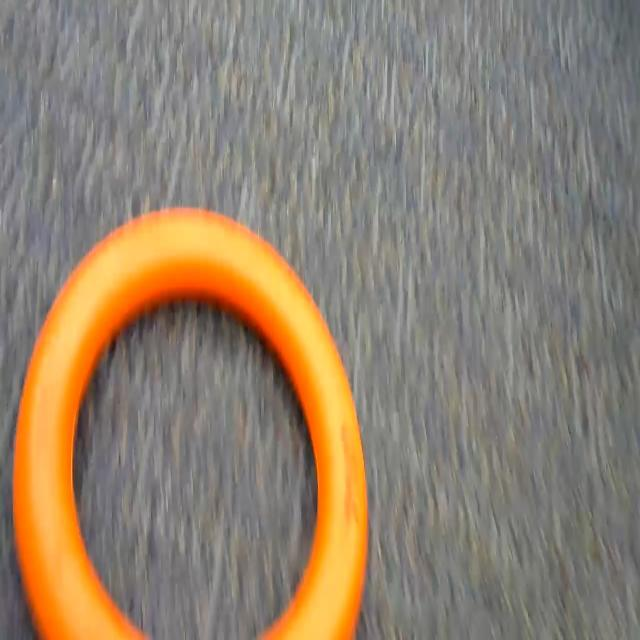note: (8, 208, 375, 640)
